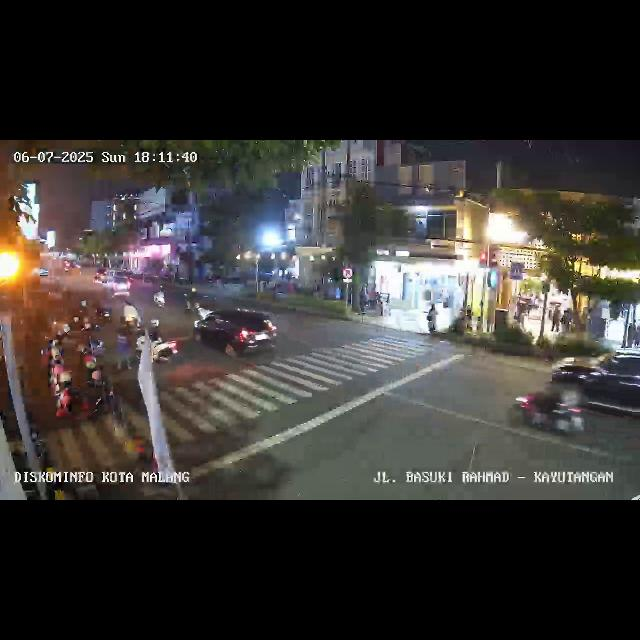car: (549, 351, 639, 421), (192, 306, 278, 364), (105, 277, 132, 301)
motorcycle: (516, 384, 586, 440), (133, 319, 179, 366), (120, 300, 142, 336), (94, 298, 112, 324), (183, 287, 200, 313), (153, 285, 165, 309)
person: (116, 328, 134, 370), (427, 304, 439, 330), (550, 305, 560, 333)
